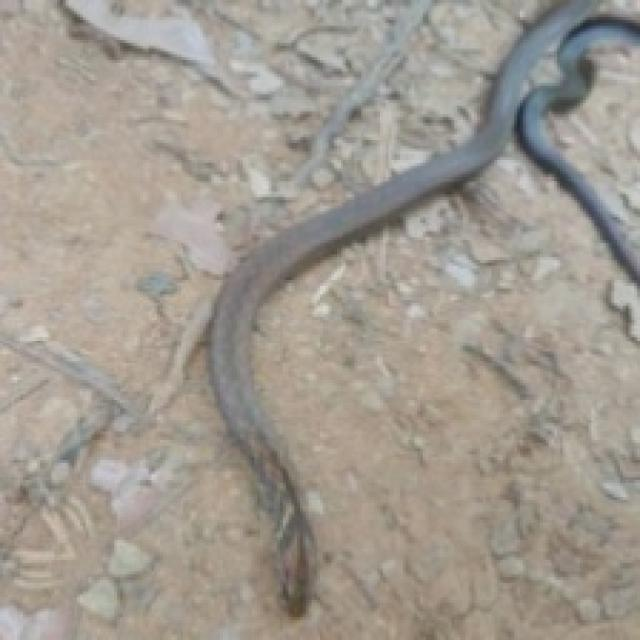reinhardts lined snake: (211, 0, 591, 609), (519, 19, 640, 286)
